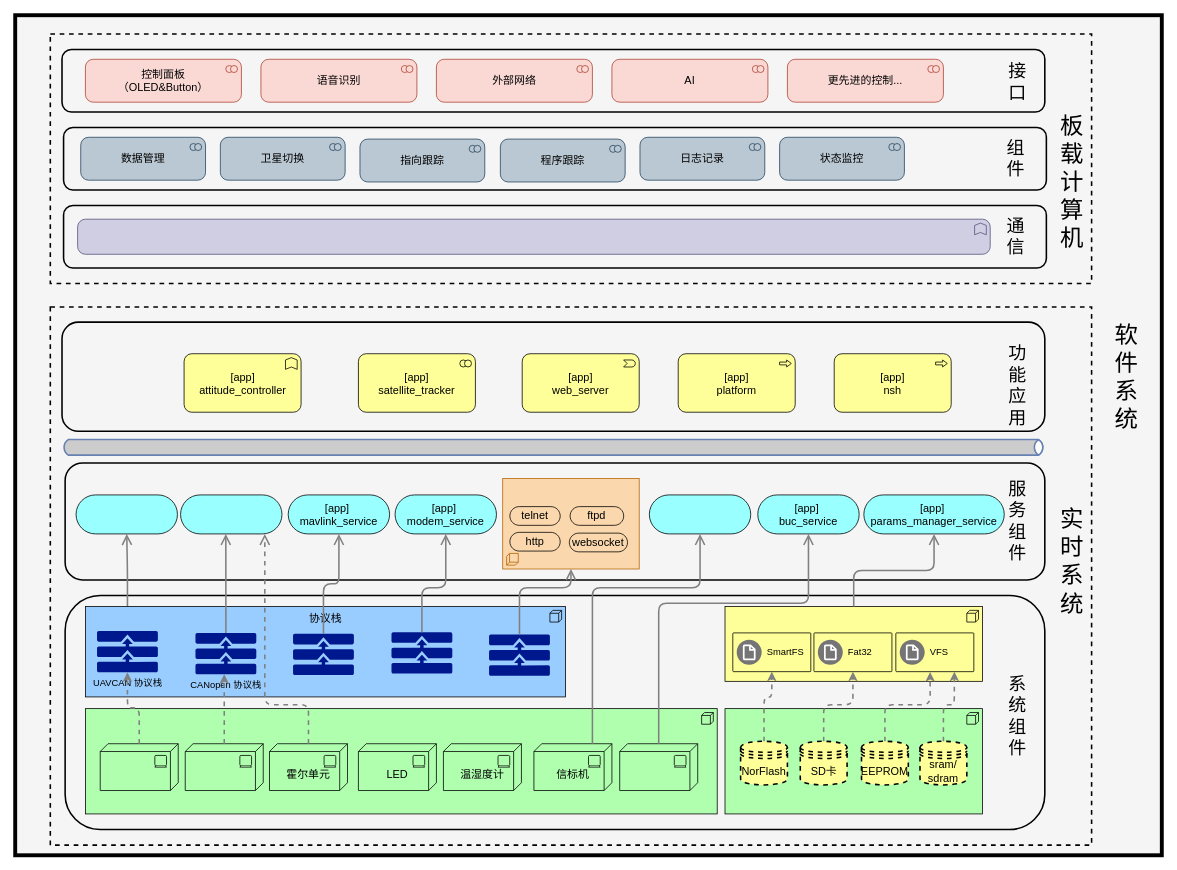
The diagram is 1177 pixels wide and 870 high, and some of its shapes have lost their labels. The shapes that lost their labels are listed below. From the top down, each one's box as (x1, y1, x2, y2) in pixels, then its label:
(77, 218, 990, 254): Mavlink （TCP、UDP、Serial）
(61, 438, 1045, 456): Micro Object Request Broker (uORB)
(75, 494, 177, 534): [app] uavcan_service
(180, 494, 282, 534): [app] motor_service
(502, 478, 639, 569): 网络服务
(649, 494, 751, 534): [app] beacon_service
(293, 633, 353, 675): Mavlink 协议栈
(391, 632, 452, 673): openAMIP协议栈
(489, 634, 550, 675): TCP/IP(uIP) 协议栈
(724, 606, 982, 681): 文件系统
(99, 743, 178, 791): 惯导单元
(184, 743, 263, 791): 伺服电机
(85, 708, 717, 814): 外设单元
(619, 743, 698, 791): 功放单元
(724, 708, 982, 814): 存储单元
